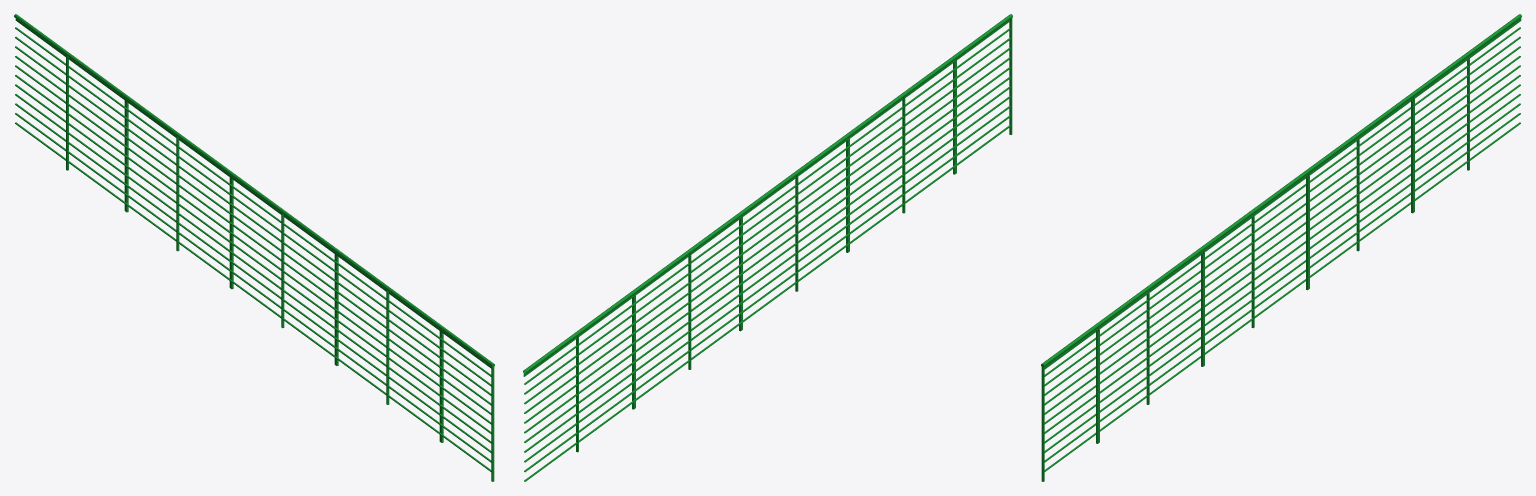
Rendered from FenceFloor03.fbx.
The picture shows the model from 3 angles, left to right: view 1: azimuth 30°, elevation 25°; view 2: azimuth 150°, elevation 25°; view 3: azimuth 330°, elevation 25°; orthographic projection.
Parts seen in each view (by area): view 1: FenceFloor03; view 2: FenceFloor03; view 3: FenceFloor03.
Boxes of the visible parts, x1,y1,x2,y2 form: FenceFloor03: (14,14,494,481); FenceFloor03: (523,14,1012,481); FenceFloor03: (1041,14,1521,481).
Size of the model in its own units: 4.66 by 124 by 910.
